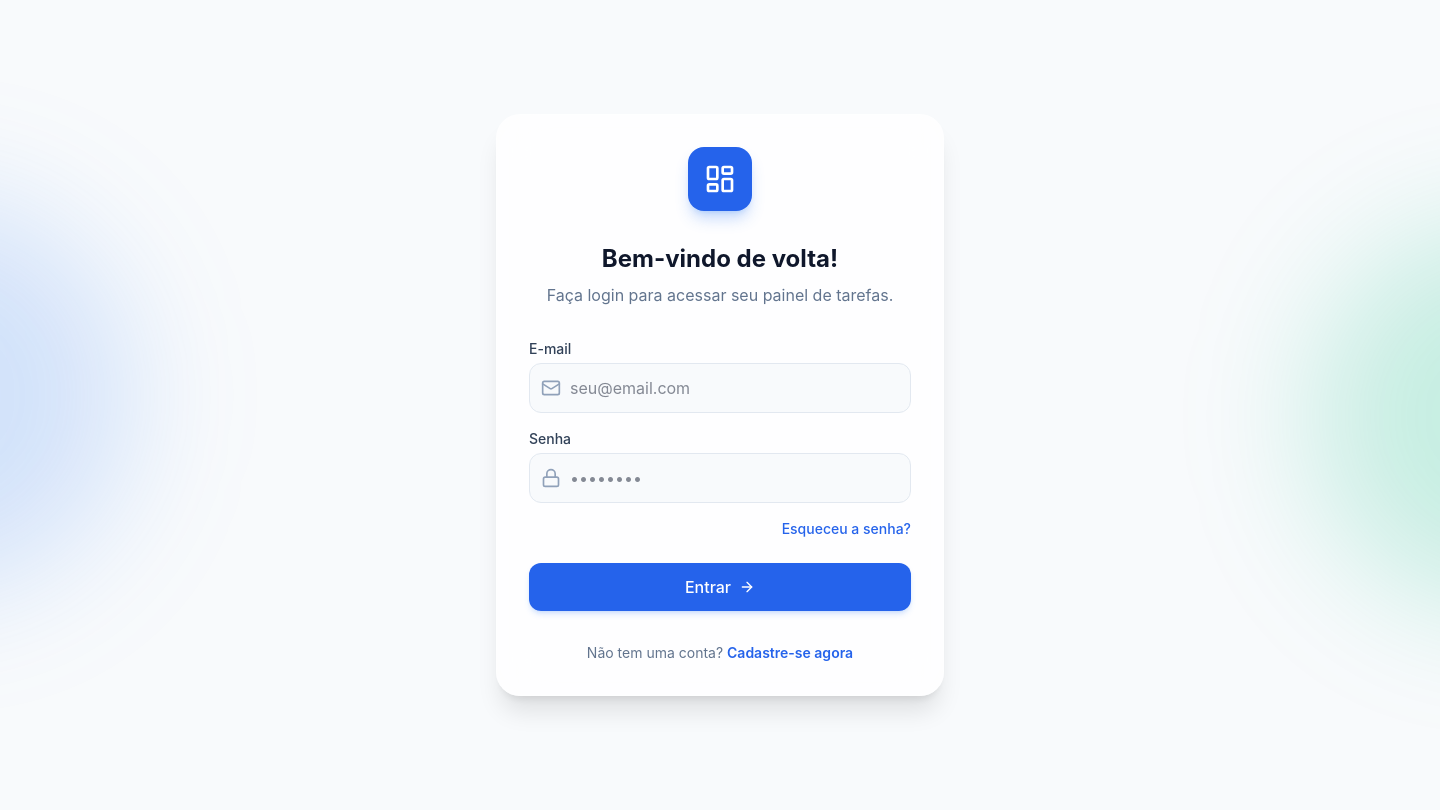
Test: Login Page › deve alternar entre login e cadastro
Click the button "Cadastre-se agora" at (790,653), box [727,643,853,663]
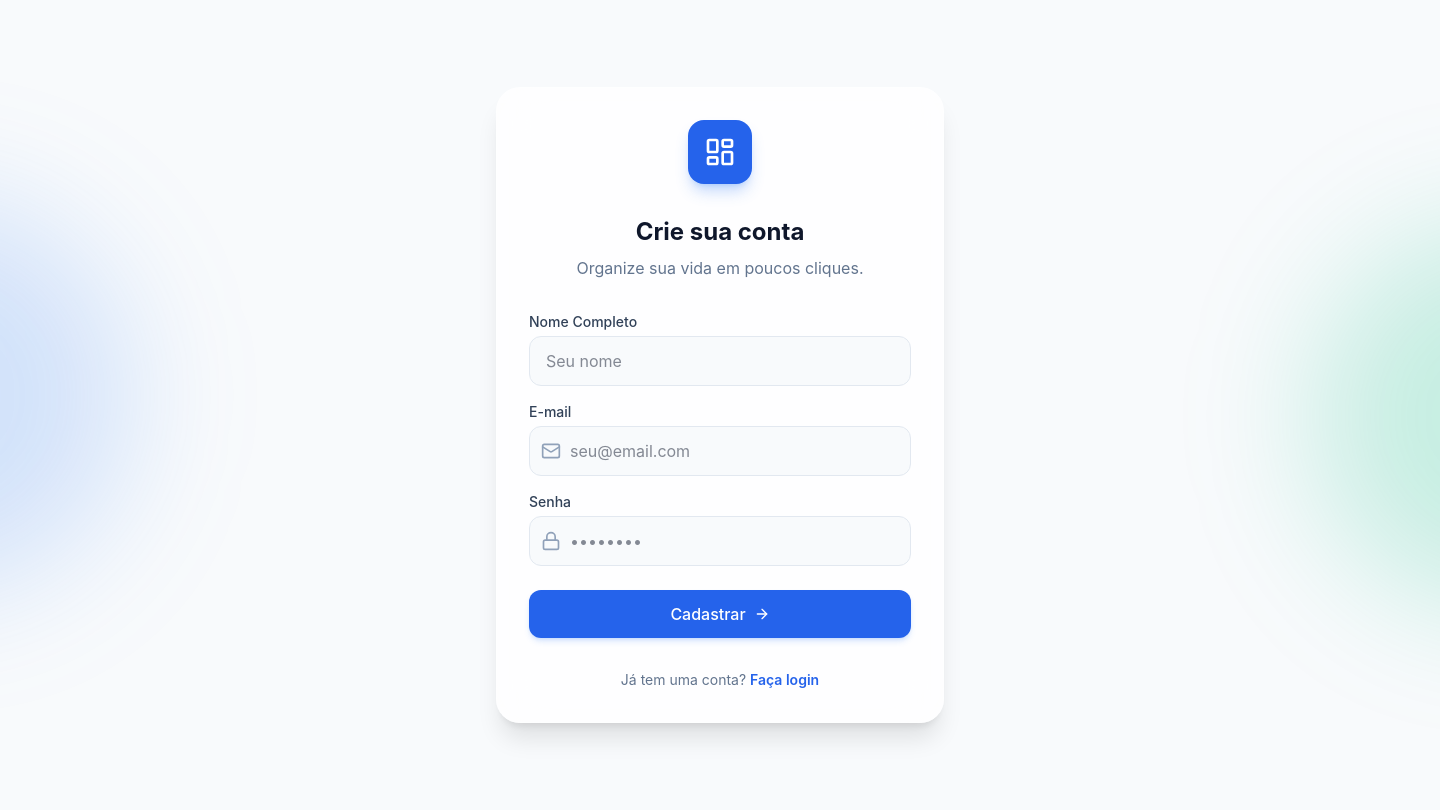
Now the field with placeholder "Seu nome" is shown, box [529,336,911,386]
Now the text "Já tem uma conta? Faça login" is shown, box [621,670,819,690]
